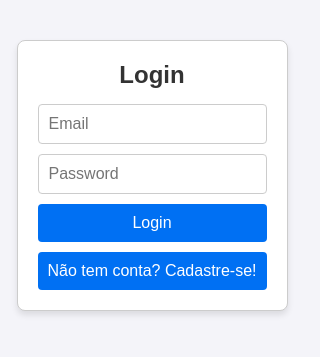
Test case: LoginForm › deve mostrar erros quando os campos estão vazios
Click the button "Login".
click(152, 222)  # box 38,204 -> 266,242
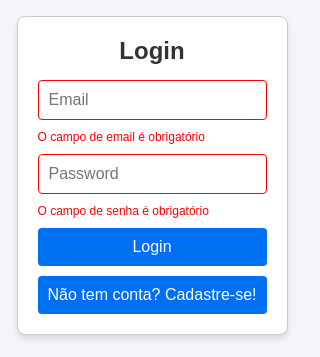
Check: the text "O campo de email é obrigatório" is shown, box 38,130 -> 205,144
Check: the text "O campo de senha é obrigatório" is shown, box 38,204 -> 209,218
